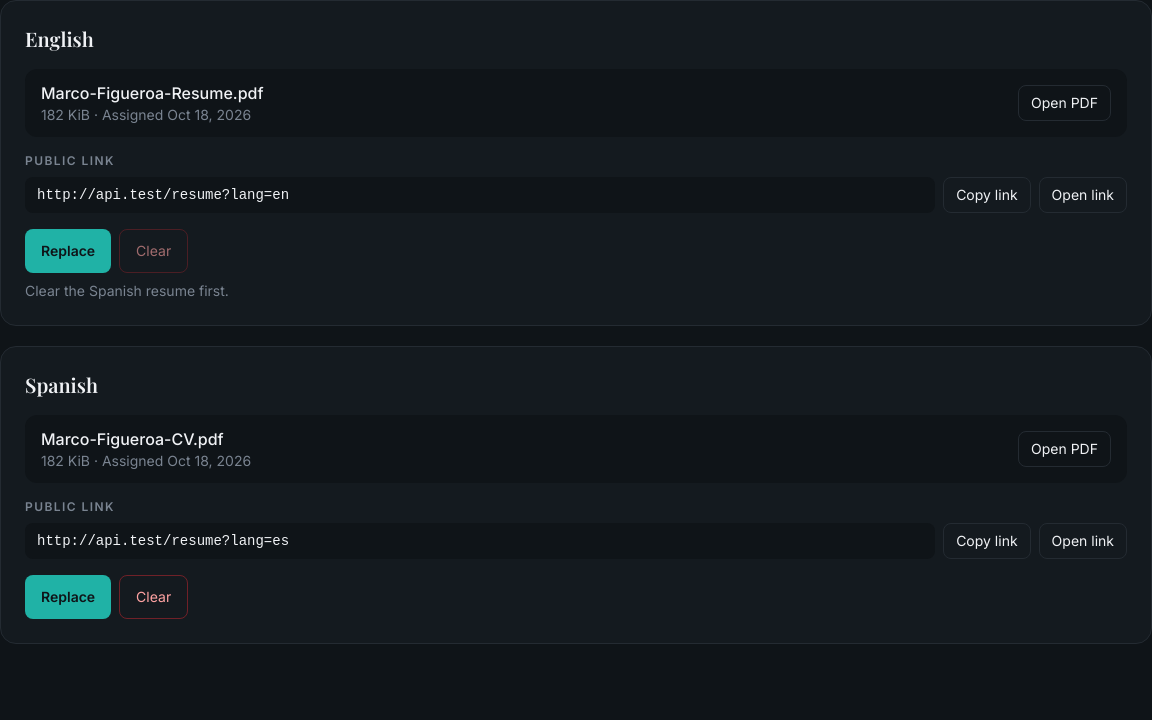
Test: ResumeManager › clearing › confirms with the effect on the public link, then clears
The image size is (1152, 720).
Click the button "Clear" below "http://api.test/resume?lang=es" at (154, 597), box [119,575,188,619]
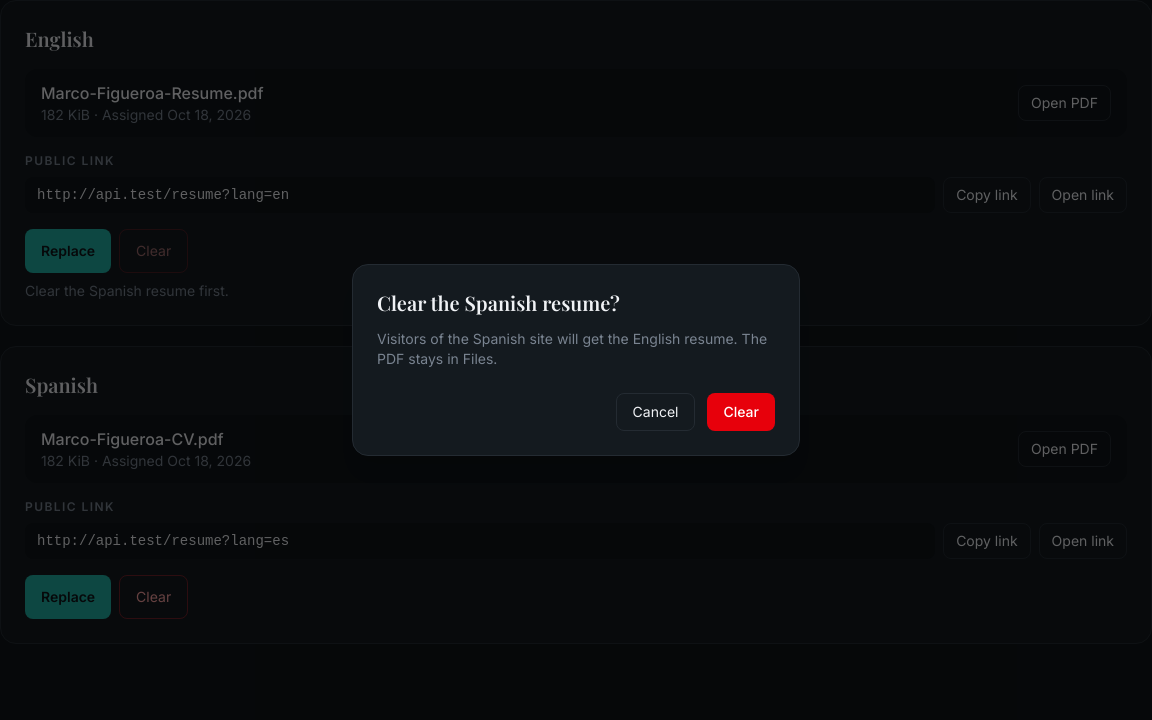
Expected: the dialog "Clear the Spanish resume?" shows "Visitors of the Spanish site will get the English resume.", [377,330,767,367]
Expected: the dialog "Clear the Spanish resume?" shows "The PDF stays in Files.", [377,330,767,367]
Click the button "Clear" at (741, 412), box [708,393,775,431]
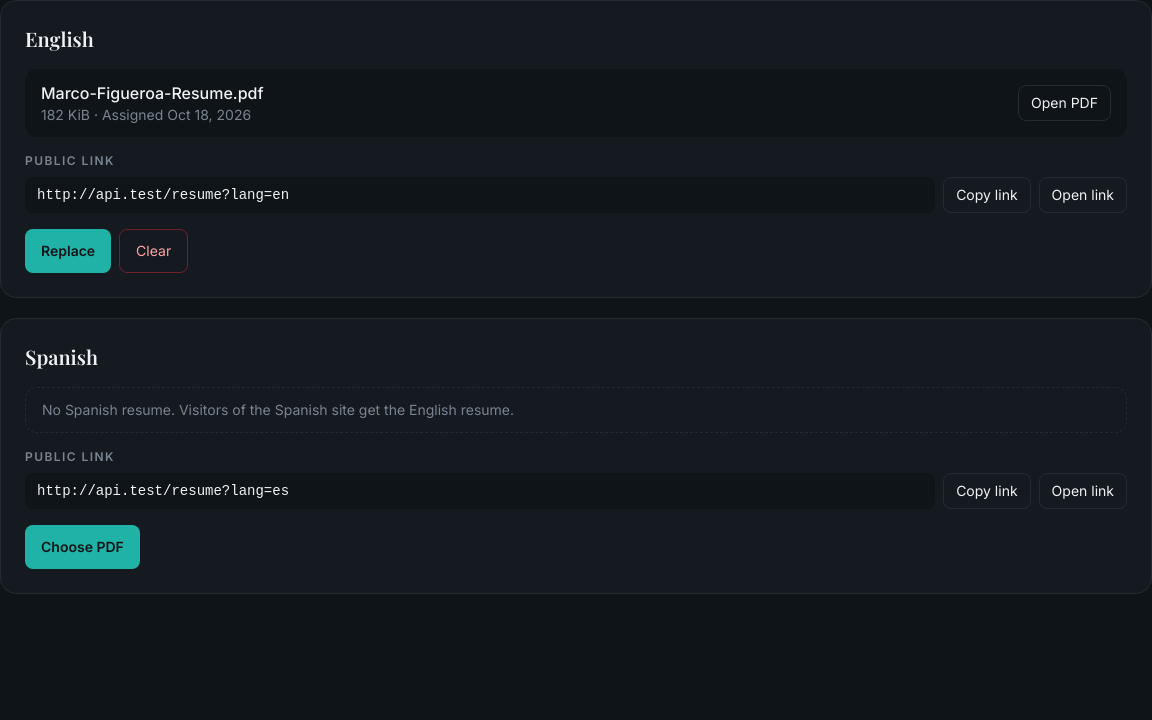
Expected: the dialog is gone
Expected: the text "No Spanish resume. Visitors of the Spanish site get the English resume." is shown, [25,387,1127,433]
